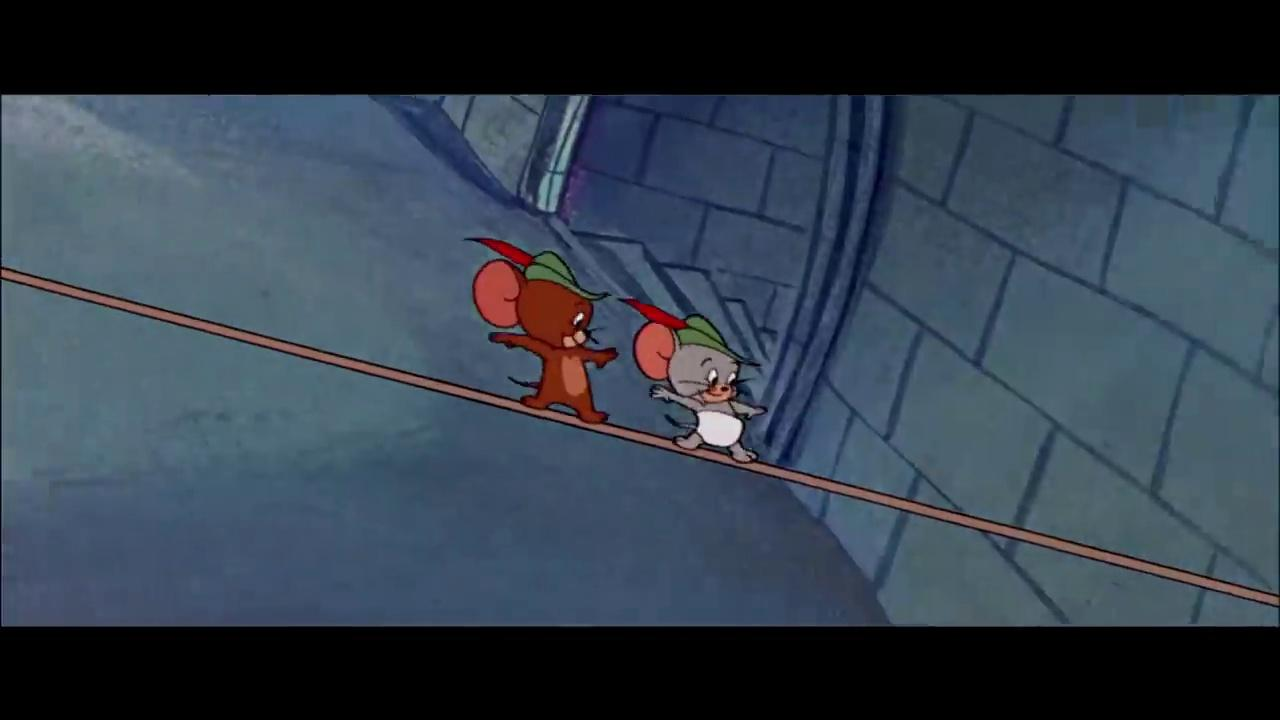Jerry: (471, 258, 621, 425)
